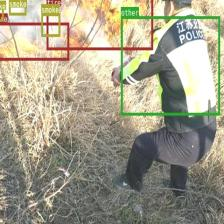fire: (45, 0, 152, 49), (0, 22, 69, 60)
smoke: (41, 13, 60, 36), (8, 0, 26, 15), (0, 0, 4, 22)
